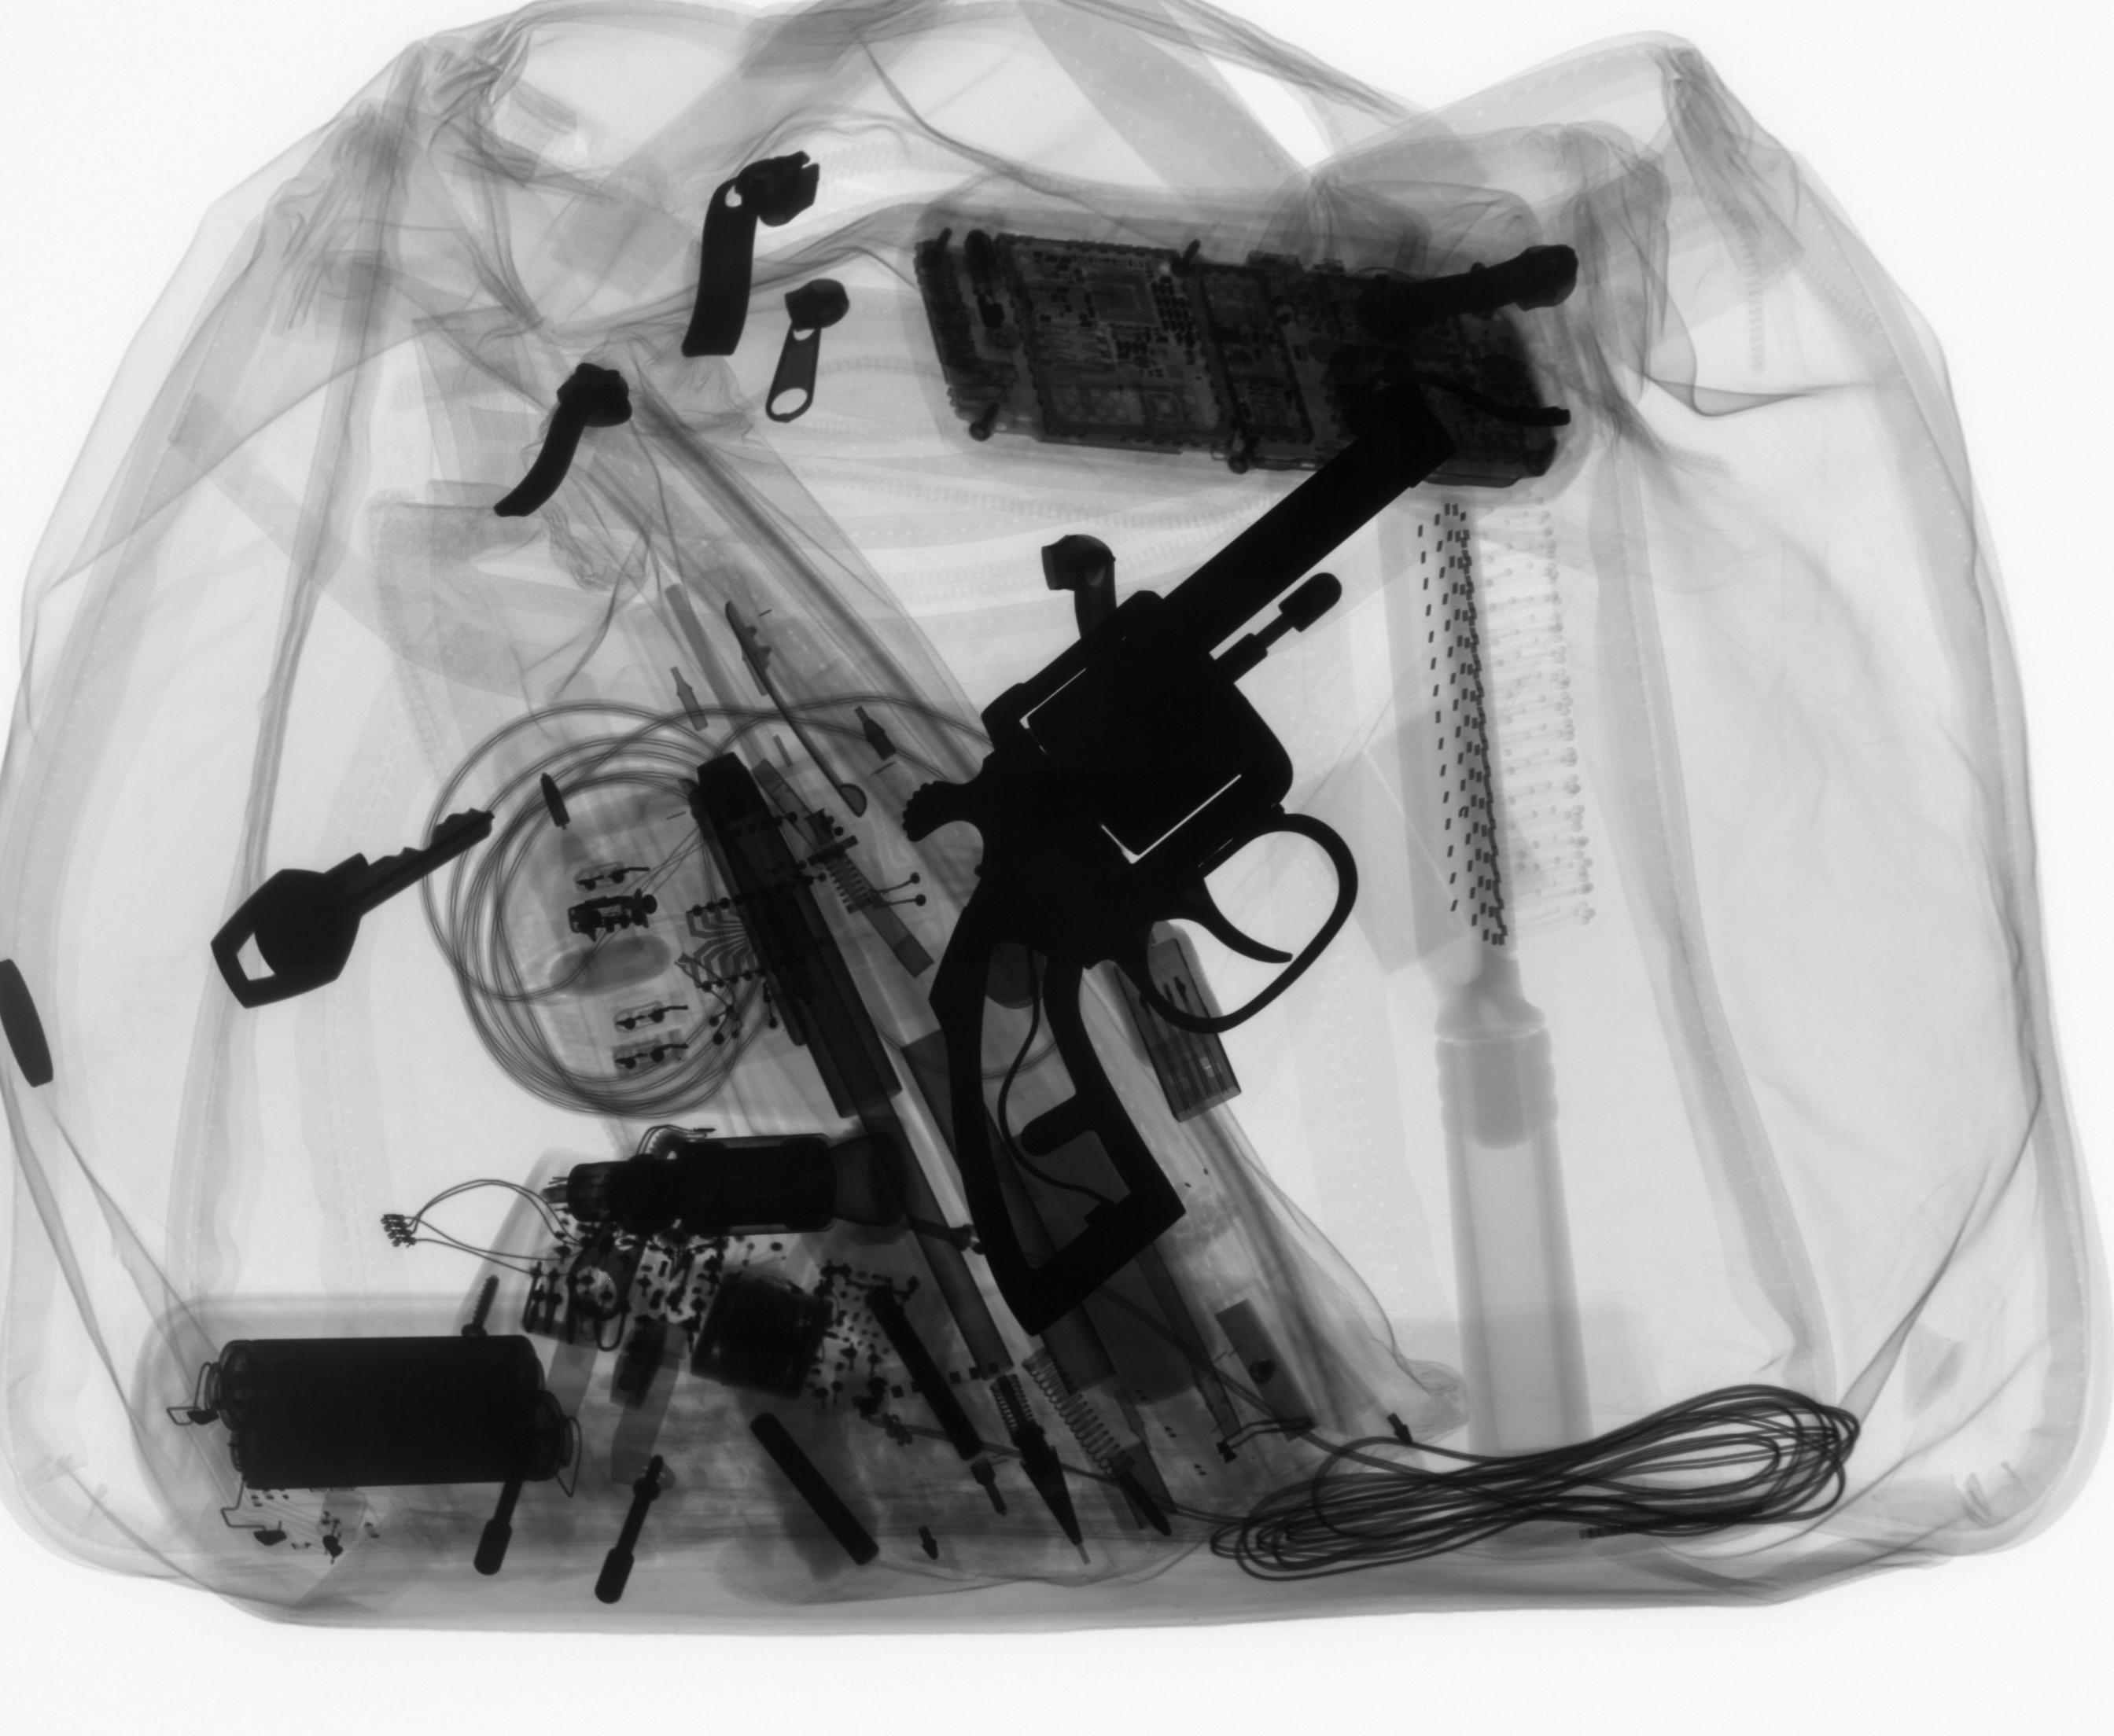Handgun: (885, 413, 1446, 1356)
